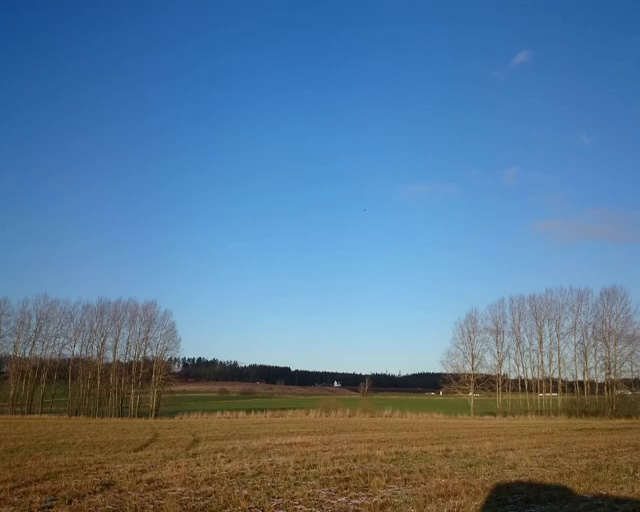DRONE: (353, 205, 361, 212)
